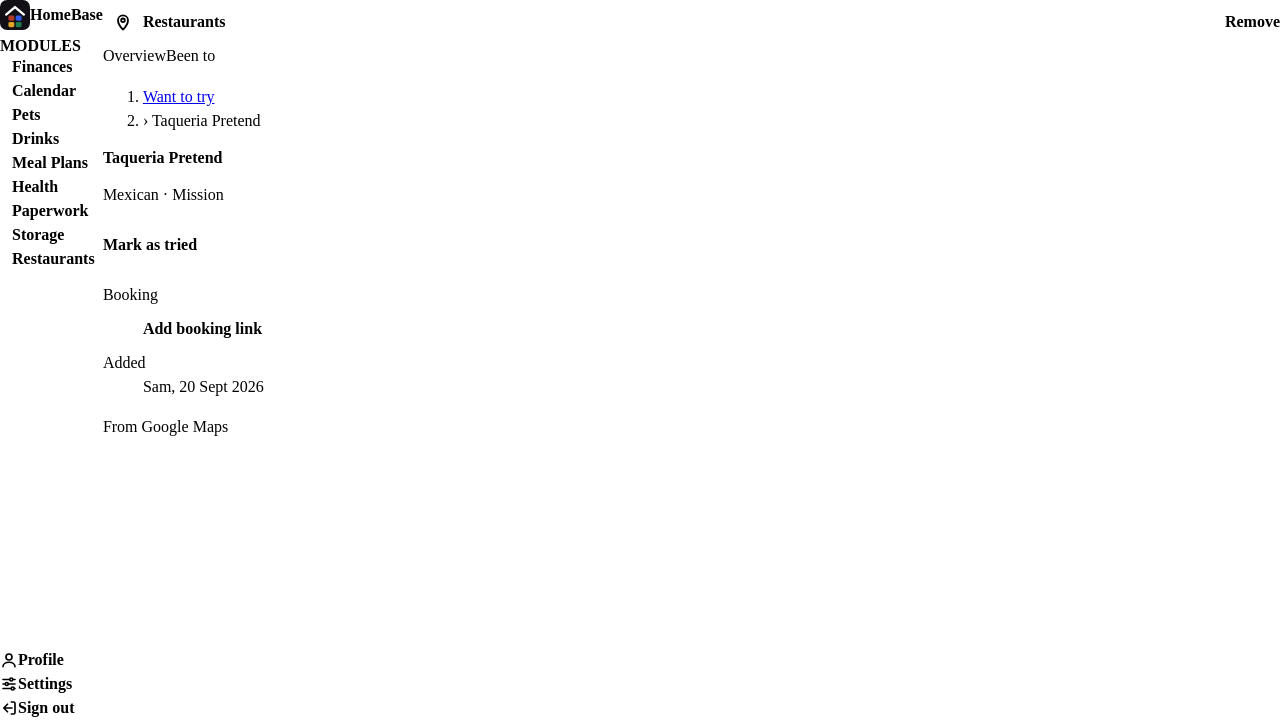
a place's page (REQ-129) › removes a place only after a confirm
Click the button "Remove": (1252,22) [1225, 0, 1279, 44]
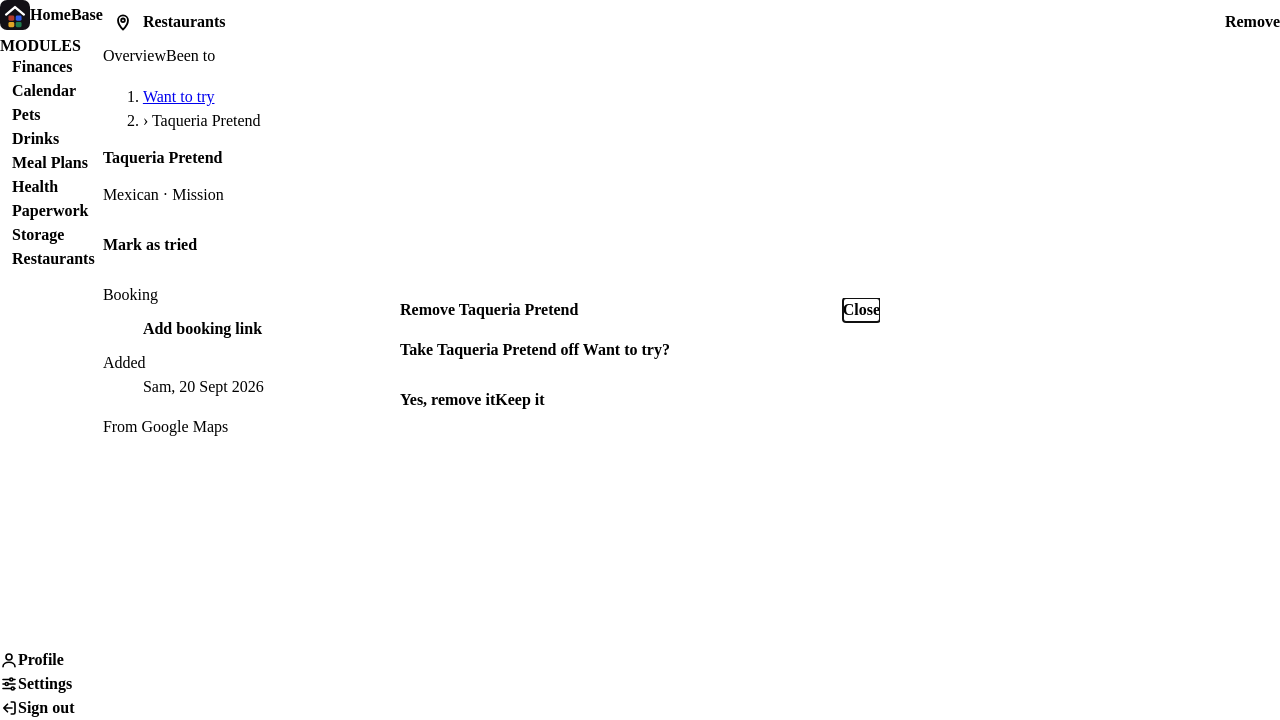
Now the dialog "Remove Taqueria Pretend" shows "Take Taqueria Pretend off Want to try?", box [400, 298, 880, 422]
Now the button "Yes, remove it" is shown, box [400, 378, 495, 422]
Click the button "Keep it": (520,400) [495, 378, 544, 422]
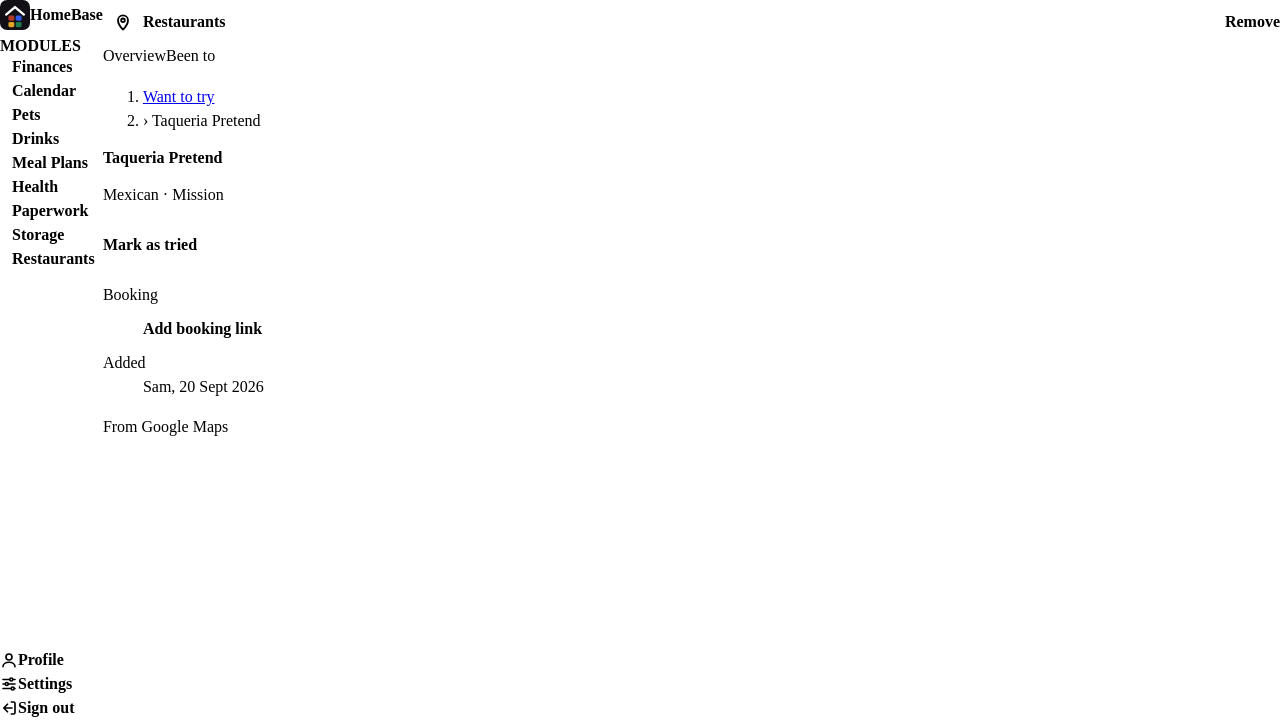
Now the dialog is gone
